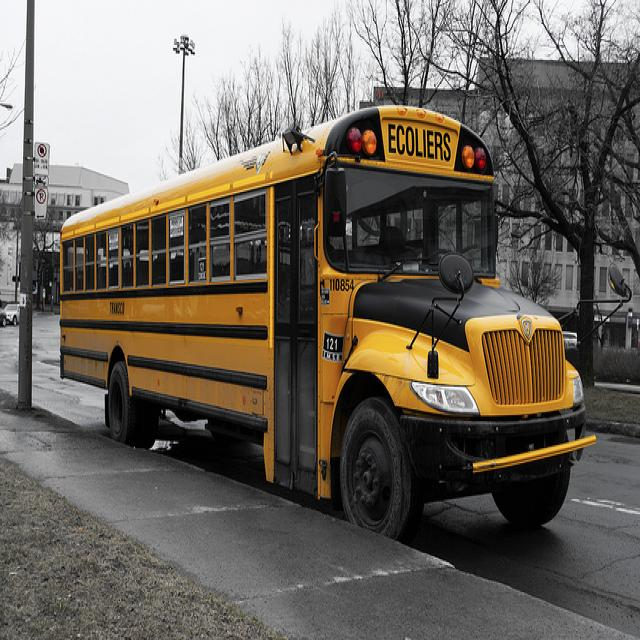Vehicle: (55, 95, 594, 539), (4, 303, 25, 325), (562, 331, 577, 346), (0, 308, 7, 328)
